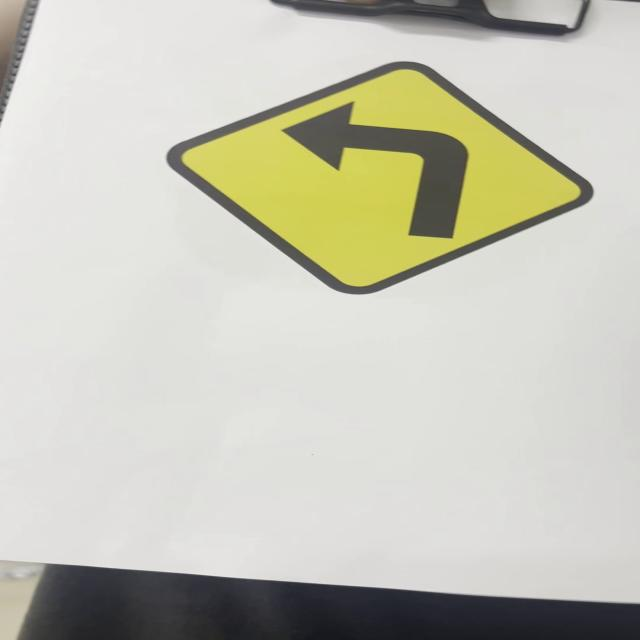left: (170, 60, 595, 293)
